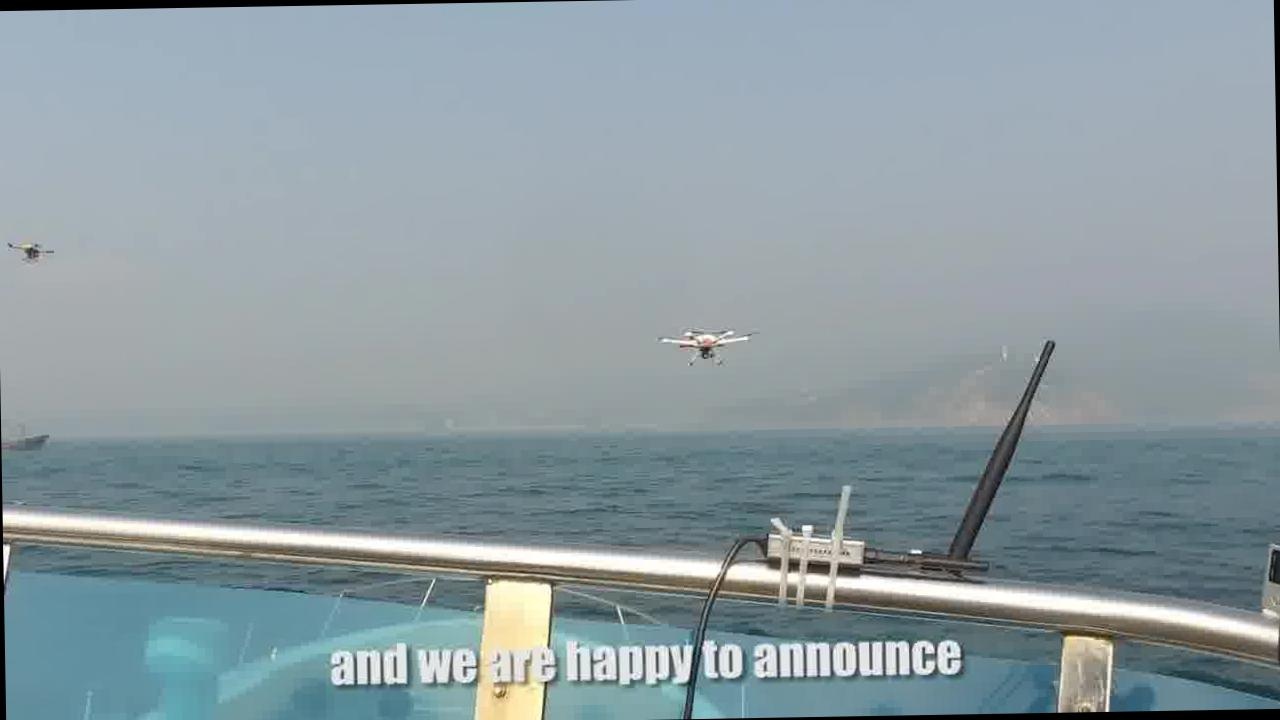drone: (655, 319, 755, 370), (5, 233, 58, 266)
